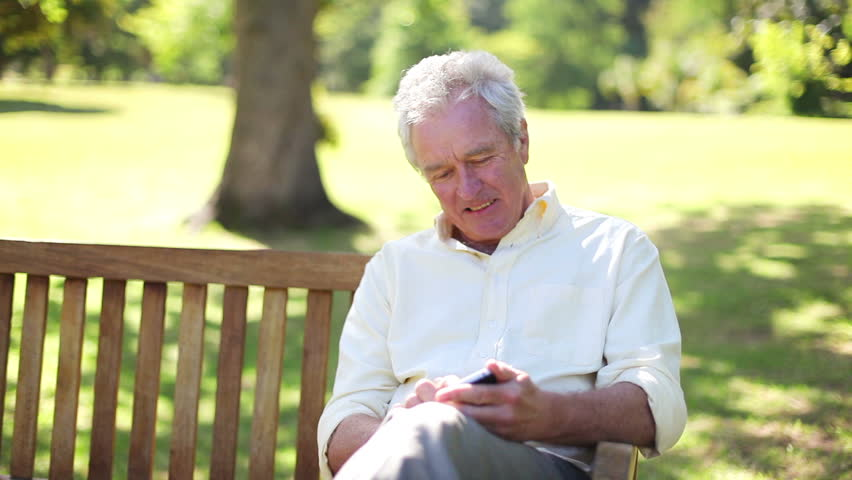Person: (308, 46, 695, 480)
